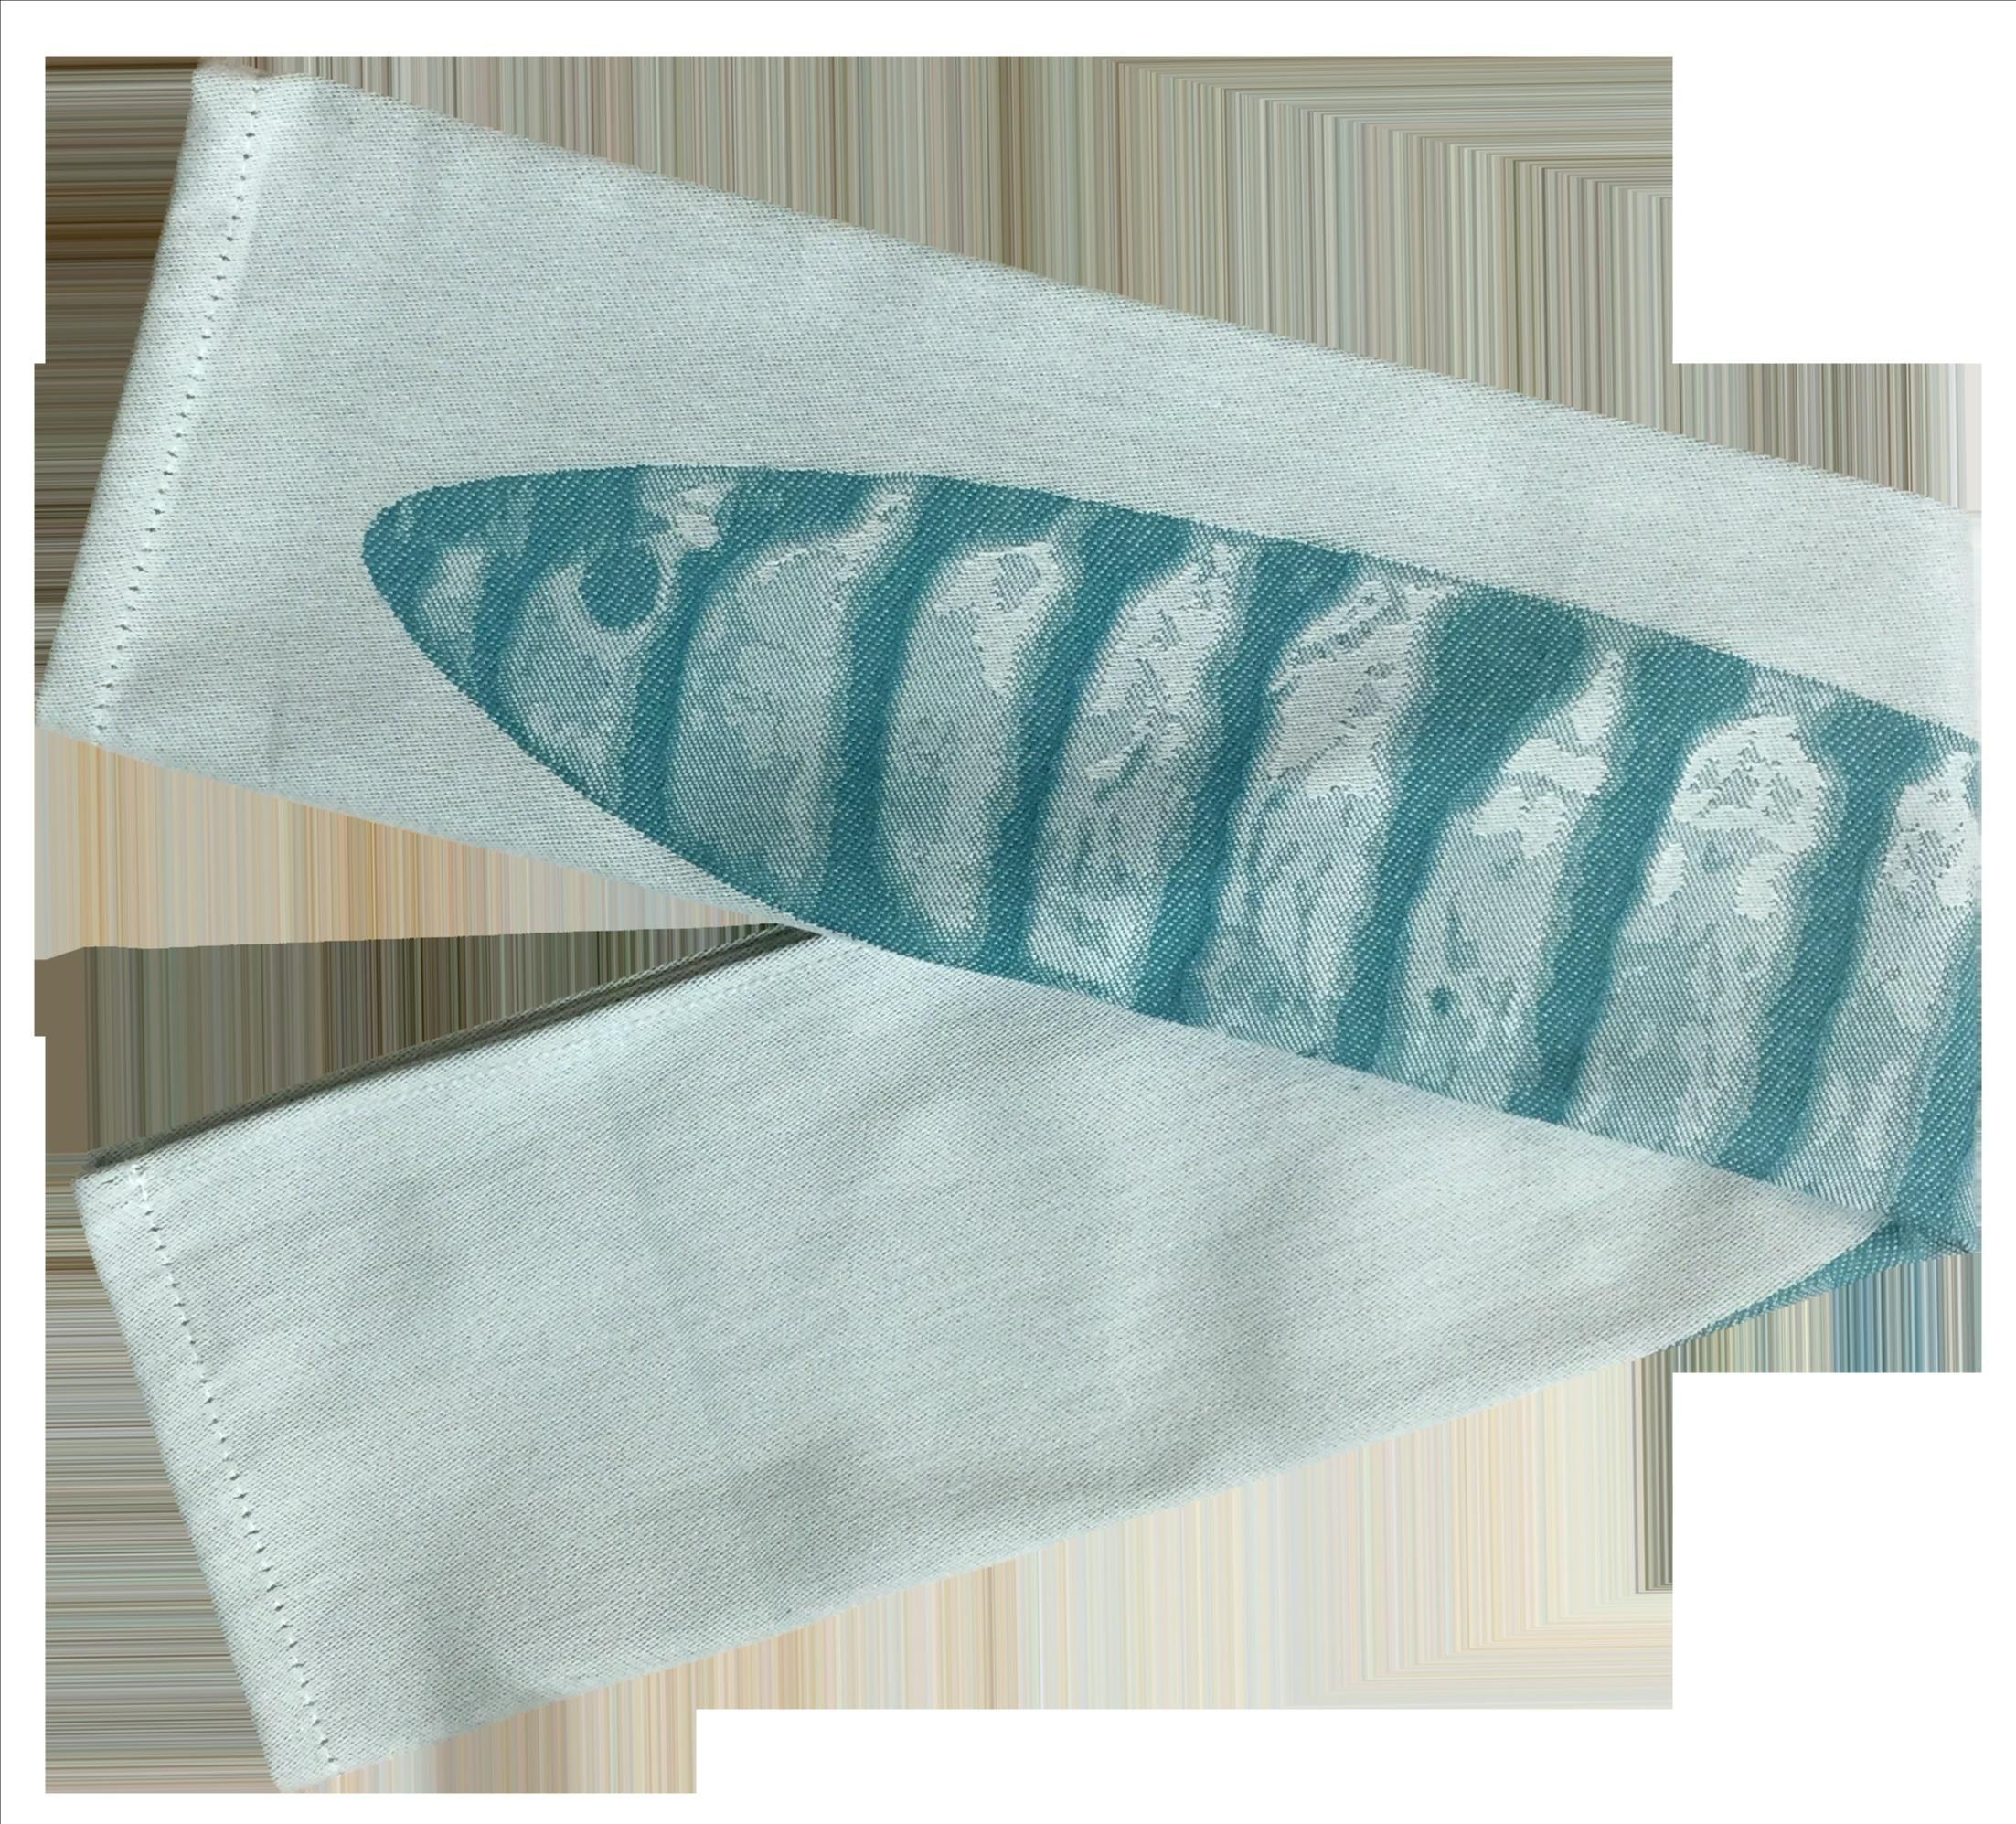towel: (32, 63, 1175, 832)
